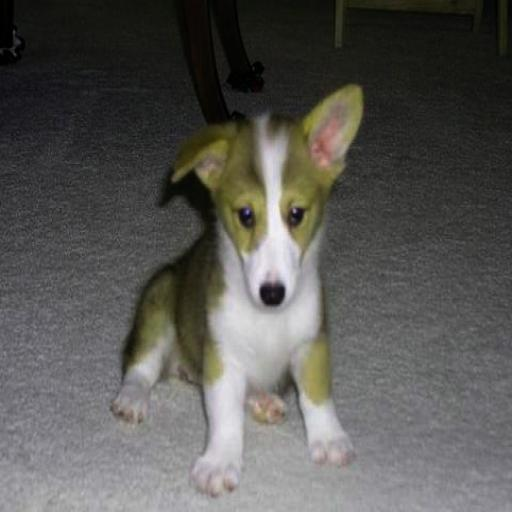dog_face: (170, 81, 352, 308)
